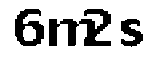2: (91, 8, 116, 48)
6: (10, 5, 46, 54)
m: (47, 15, 96, 48)
s: (118, 17, 147, 51)
